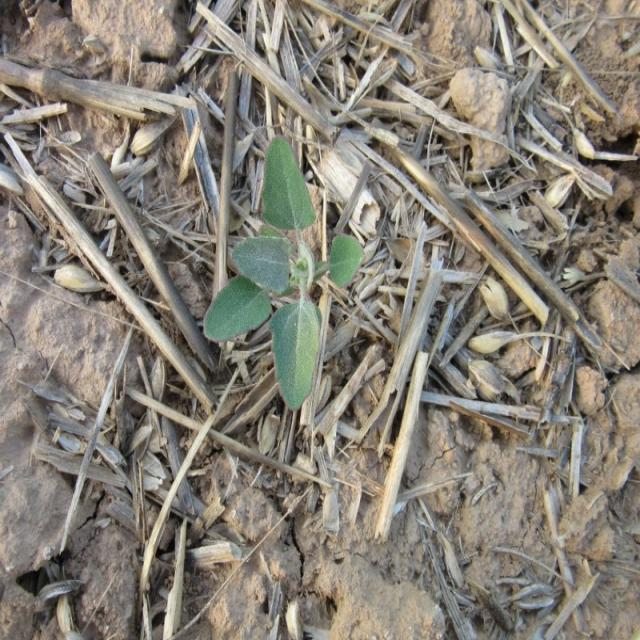ca: (203, 139, 362, 407)
